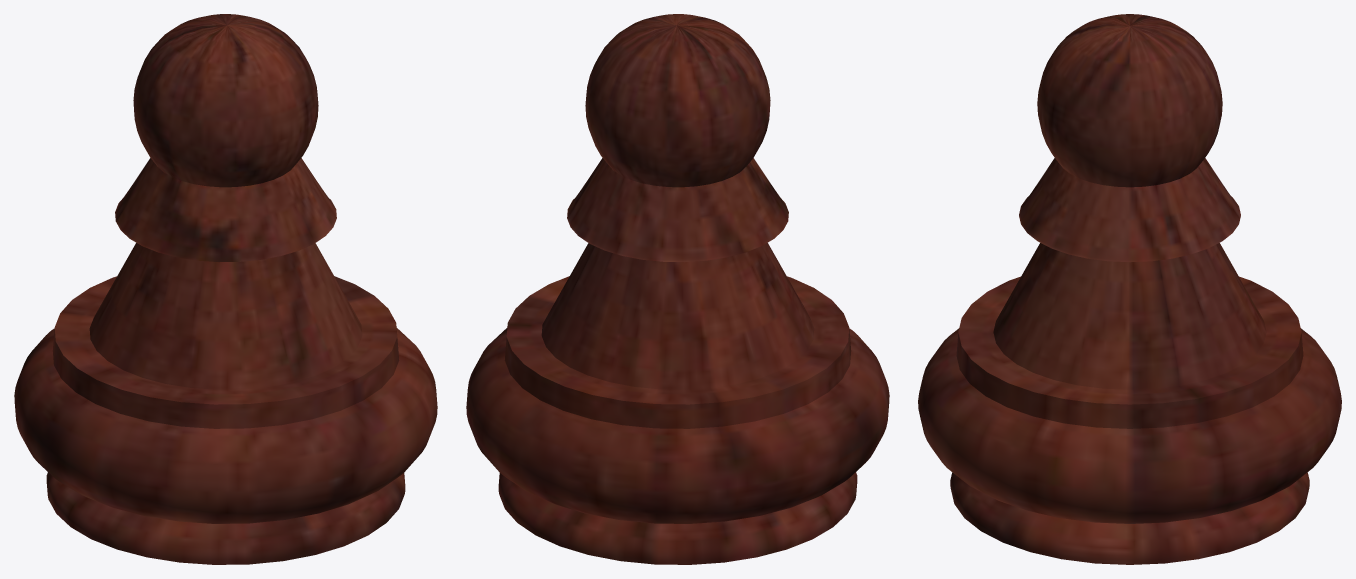
Rendered from BlackPawn.FBX.
3 renders of one model, left to right at view 1: azimuth 30°, elevation 25°; view 2: azimuth 150°, elevation 25°; view 3: azimuth 270°, elevation 25°, orthographic.
Visible parts, largest first — view 1: PawnB8; view 2: PawnB8; view 3: PawnB8.
Boxes of the visible parts, left/top/right/bottom form: PawnB8: left=14, top=14, right=437, bottom=564; PawnB8: left=466, top=14, right=889, bottom=564; PawnB8: left=918, top=14, right=1341, bottom=564.
Size of the model in its own units: 0.1312 by 0.1312 by 0.1584.
1 material, 1 textured.
